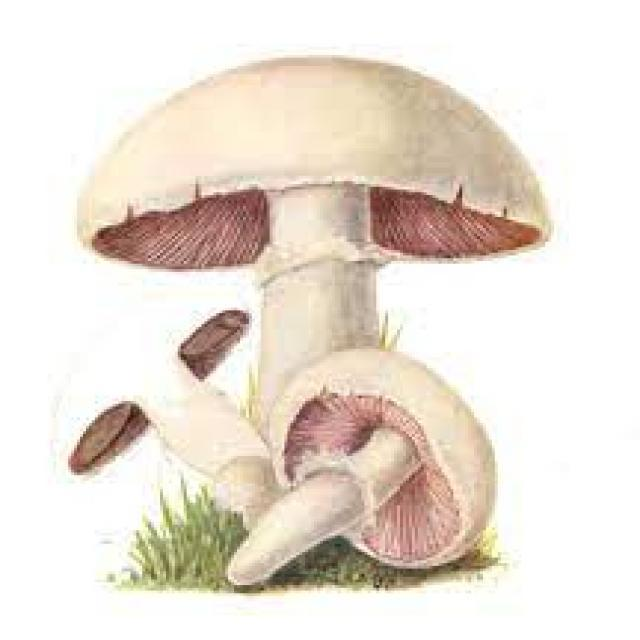Mushroom: (47, 70, 593, 580)
